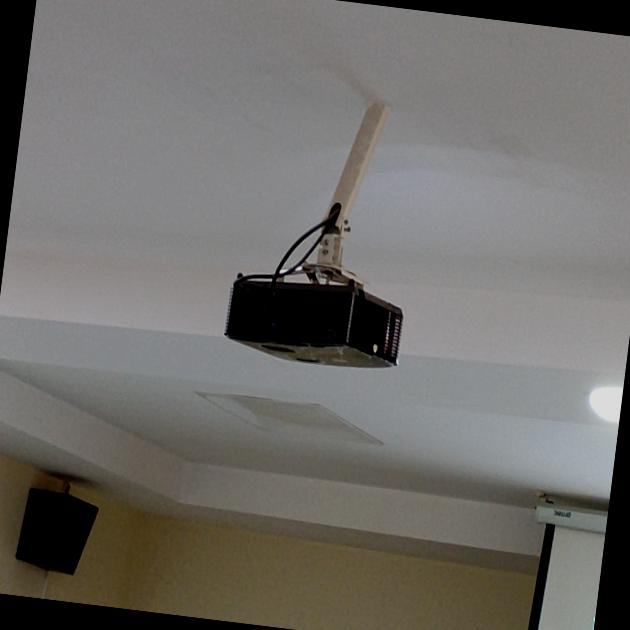projector: (165, 134, 450, 431)
speaker: (0, 454, 114, 598)
